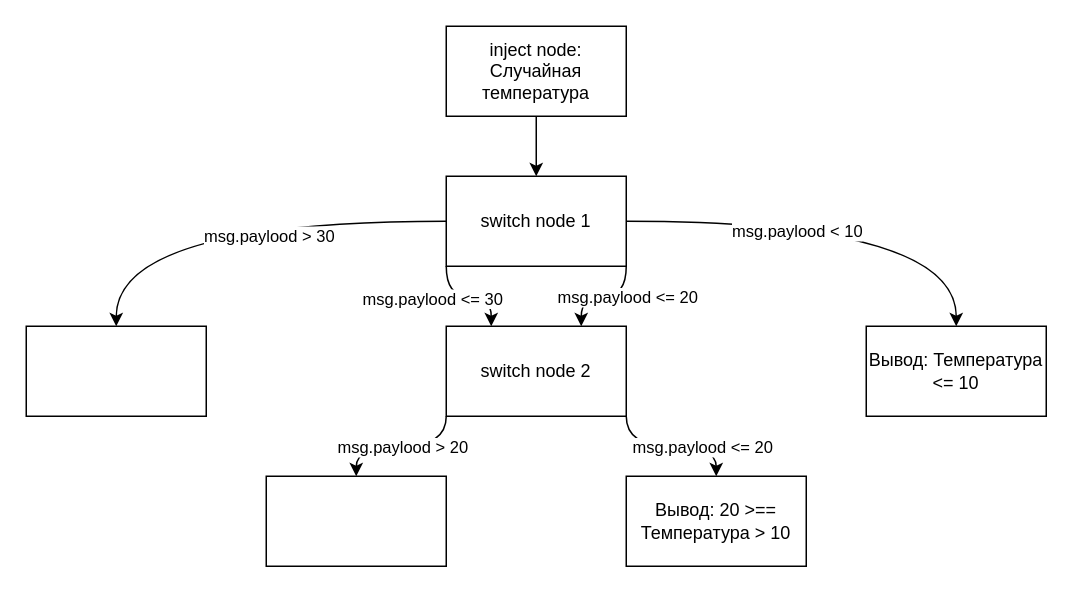
The diagram is 1073 pixels wide and 593 high, and some of its shapes have lost their labels. The shapes that lost their labels are listed below. From the top down, each one's centre as x and y in pixels, then its label:
point 115,370: Вывод: Температура > 30
point 355,520: Вывод: 30 >= Температура > 20
